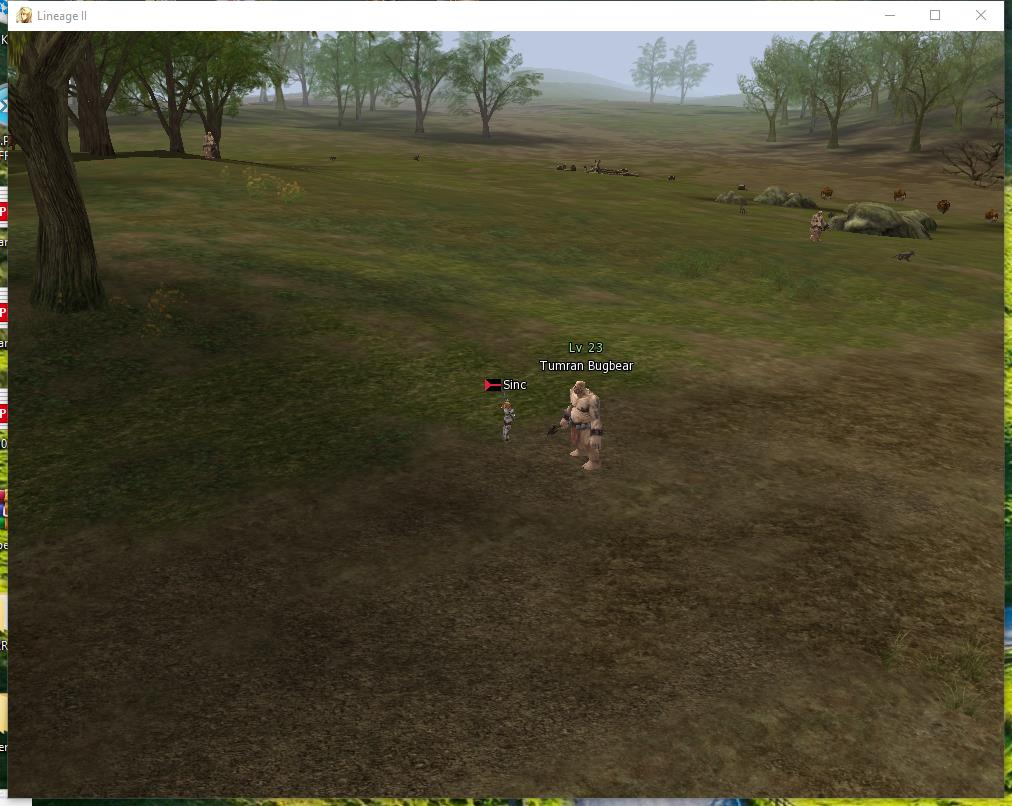monster: (536, 327, 642, 493)
